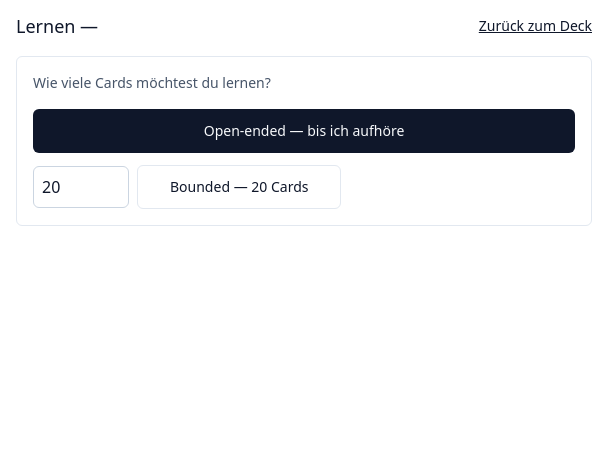
Review-Flow keyboard a11y (ADR-0015) › Space on the front face is intercepted via window-level keydown listener
Click the button "Open-ended — bis ich aufhöre". click: (304, 131)
box: [33, 109, 575, 153]
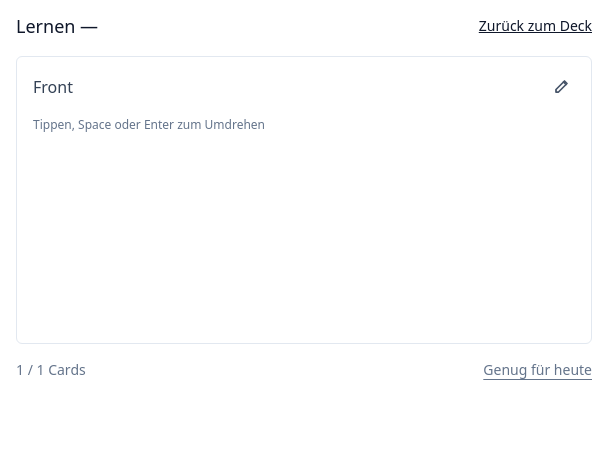
Expected: the button with aria-label "Vorderseite" is shown, [16, 56, 592, 344]
Press Space
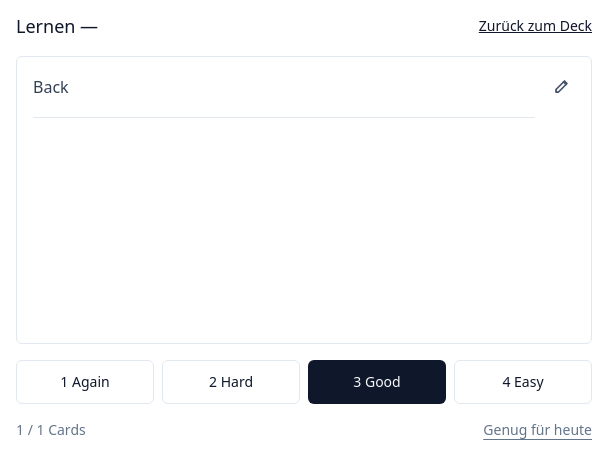
Expected: the button "3 Good" is shown, [308, 360, 446, 404]
